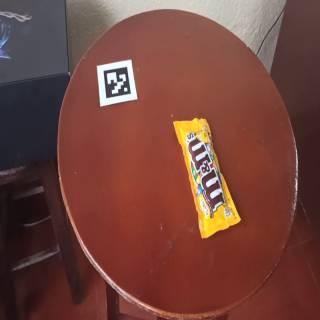chocolate: (175, 117, 242, 239)
